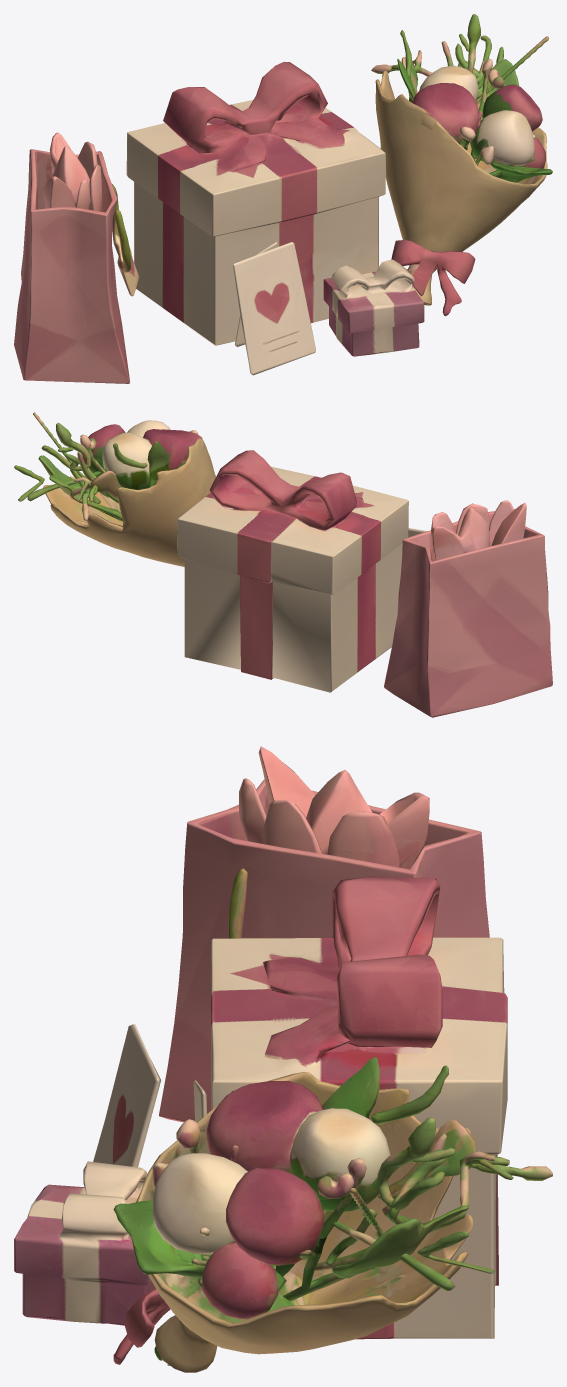
The model's file is gift.glb.
The picture shows the model from 3 angles, top to bottom: view 1: azimuth 30°, elevation 25°; view 2: azimuth 150°, elevation 25°; view 3: azimuth 270°, elevation 25°; orthographic projection. The views are drawn at different scales.
Visible parts, largest first — view 1: mesh_node; view 2: mesh_node; view 3: mesh_node.
Part boxes in pixels (x1,y1,x2,y2): mesh_node: [14, 14, 552, 383]; mesh_node: [14, 412, 552, 717]; mesh_node: [14, 746, 552, 1372].
Size of the model in its own units: 1.95 by 0.7202 by 0.9746.
Materials: 1 (1 with a texture image).
